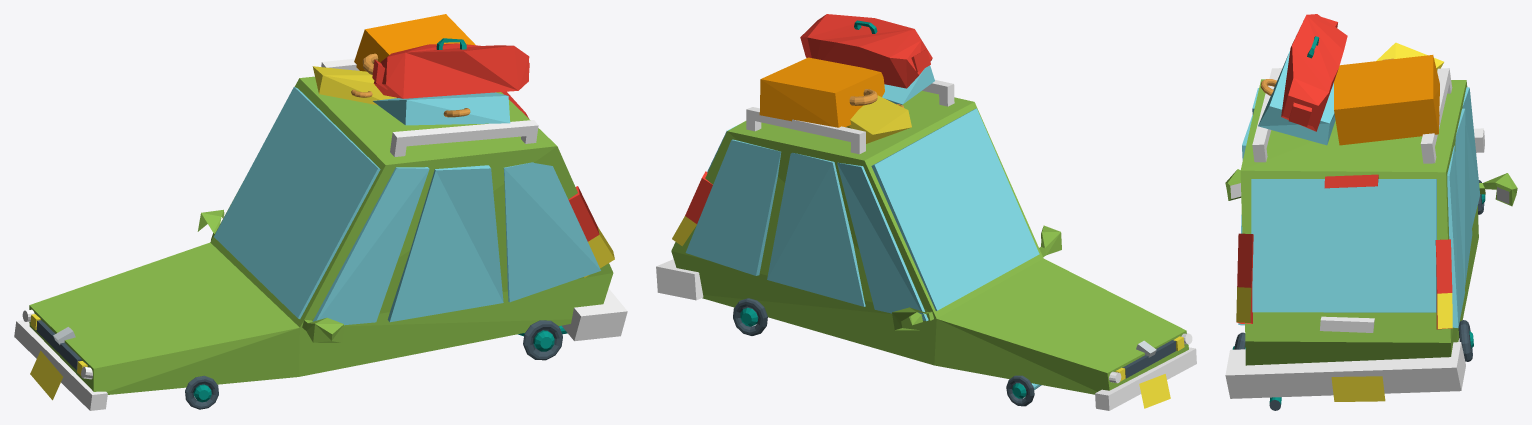
The model's file is wagon.glb.
3 renders of one model, left to right at view 1: azimuth 30°, elevation 25°; view 2: azimuth 150°, elevation 25°; view 3: azimuth 270°, elevation 25°, orthographic. The views are drawn at different scales.
Visible parts, largest first — view 1: Node; view 2: Node; view 3: Node.
Part boxes in pixels (x1=…): Node: x1=14, y1=14, x2=627, y2=410; Node: x1=656, y1=14, x2=1196, y2=410; Node: x1=1225, y1=14, x2=1517, y2=410.
Bounding box in the file's own units: 1.02 × 0.5744 × 0.4959.
